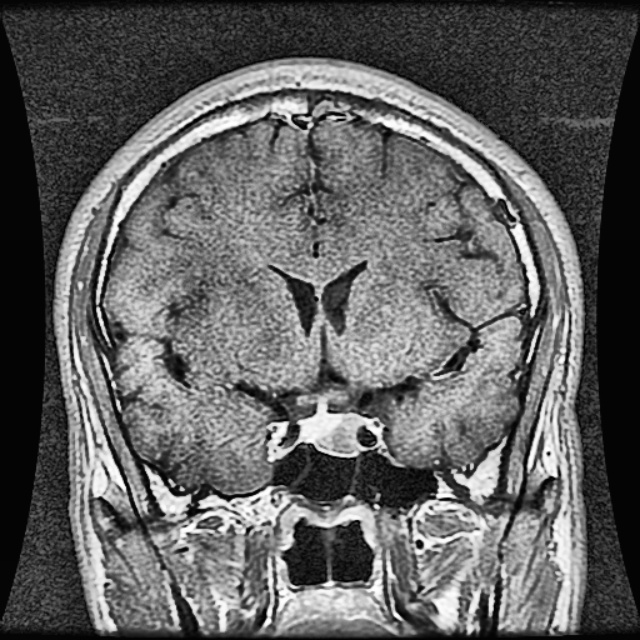Pituitary: (299, 403, 364, 455)
